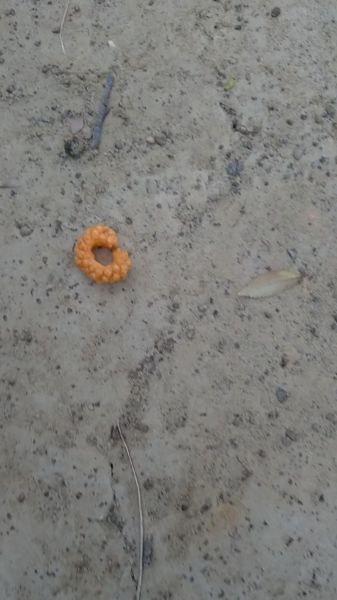eggs: (69, 210, 135, 297)
